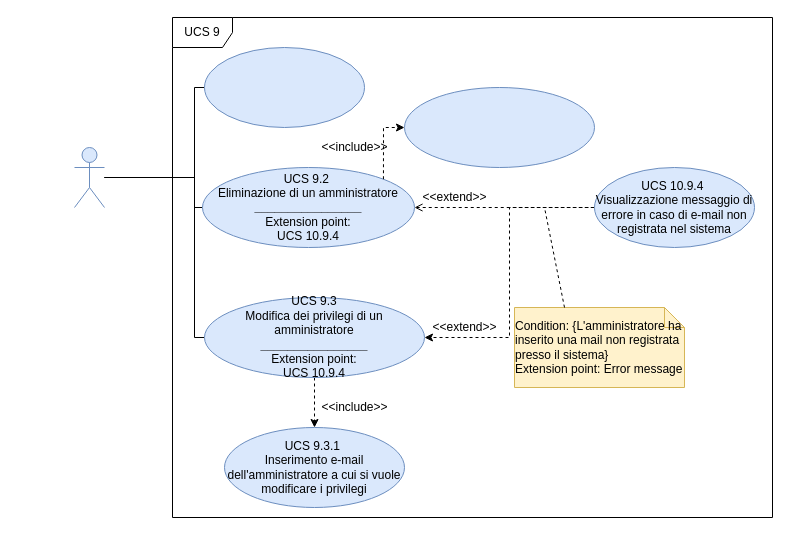
Some shapes in this 790 by 535 pixel diagram are drawn without their labels. The shapes that lost their labels are listed below. From the top down, each one's centre as x and y in pixels, then its label:
At [284,87]: "UCS 9.1 Creazione di un nuovo amministratore".
At [499,127]: "UCS 9.2.1 Inserimento e-mail dell'amministratore da eliminare".
At [89,177]: "Amministratore proprietario".
